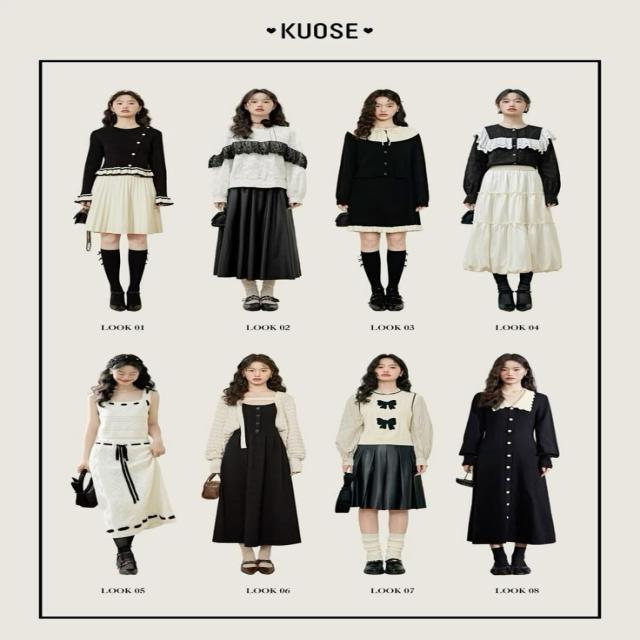person: (204, 353, 306, 575), (207, 88, 308, 311), (461, 88, 562, 311), (73, 90, 174, 312), (75, 353, 176, 575), (458, 353, 559, 575), (335, 353, 432, 575), (334, 89, 430, 311)
